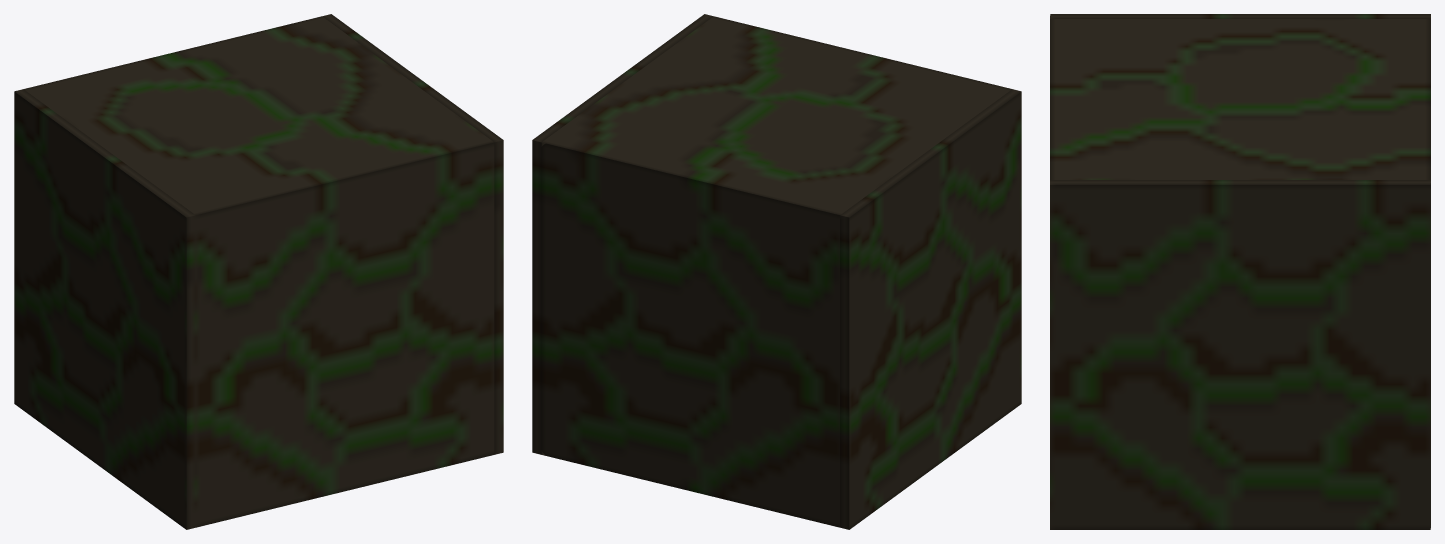
The picture shows the model from 3 angles, left to right: view 1: azimuth 30°, elevation 25°; view 2: azimuth 150°, elevation 25°; view 3: azimuth 270°, elevation 25°; orthographic projection. The views are drawn at different scales.
Parts seen in each view (by area): view 1: RF; view 2: RF; view 3: RF.
Part boxes in pixels (bbox=[...]): RF: bbox=[14, 14, 503, 529]; RF: bbox=[532, 14, 1021, 529]; RF: bbox=[1050, 14, 1430, 529].
Bounding box in the file's own units: 34 × 32 × 32.
Materials: 1 (1 with a texture image).
